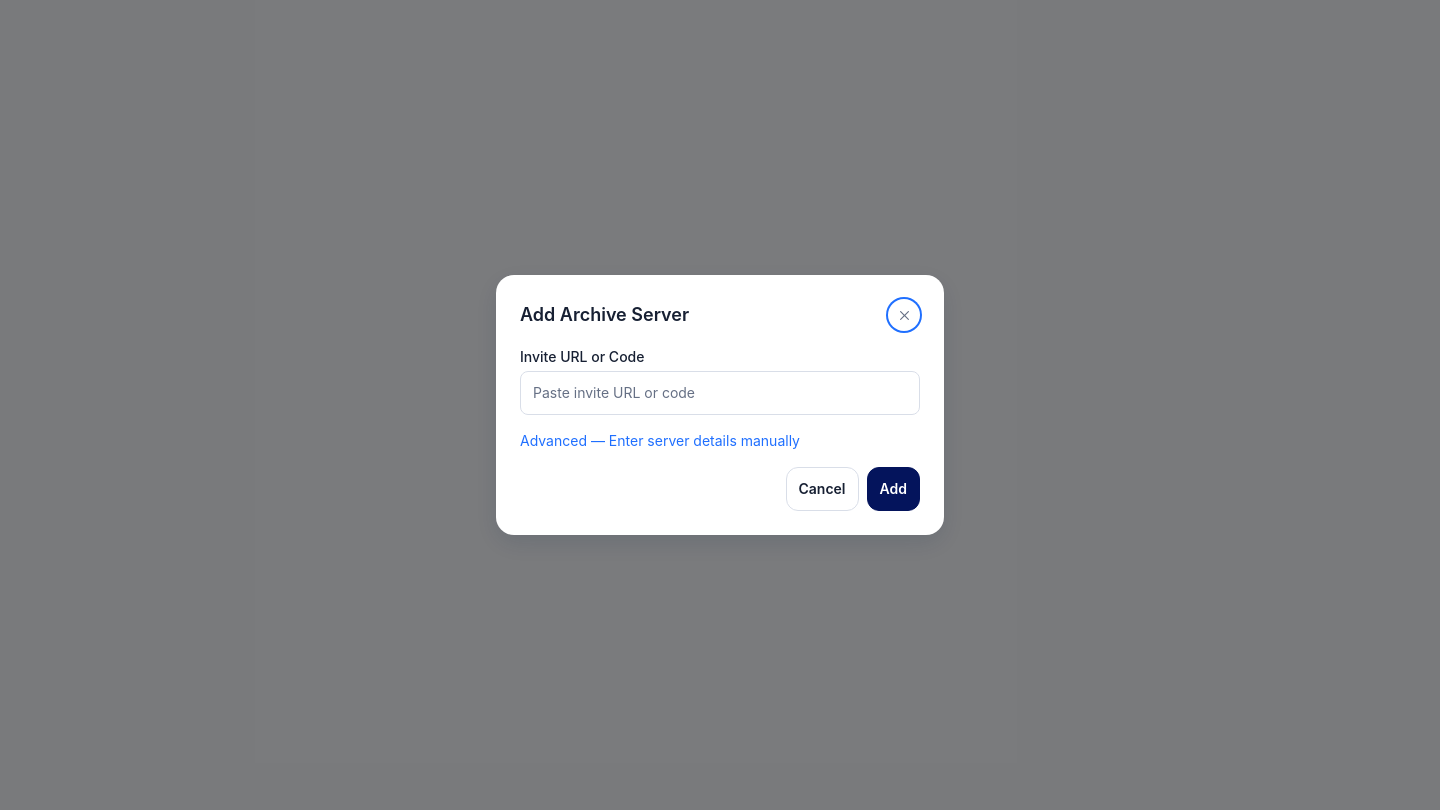
it: AddArchiveServerDialog › clicking "Advanced" toggle shows manual fields (Label, Server URL, Bearer Token)
The width and height of the screenshot is (1440, 810).
Expected: the field labelled "Invite URL or Code" is shown, [520,371,920,415]
Note: Click advanced toggle
Click the button with test id "advanced-toggle". click: (720, 441)
box: [520,431,920,451]
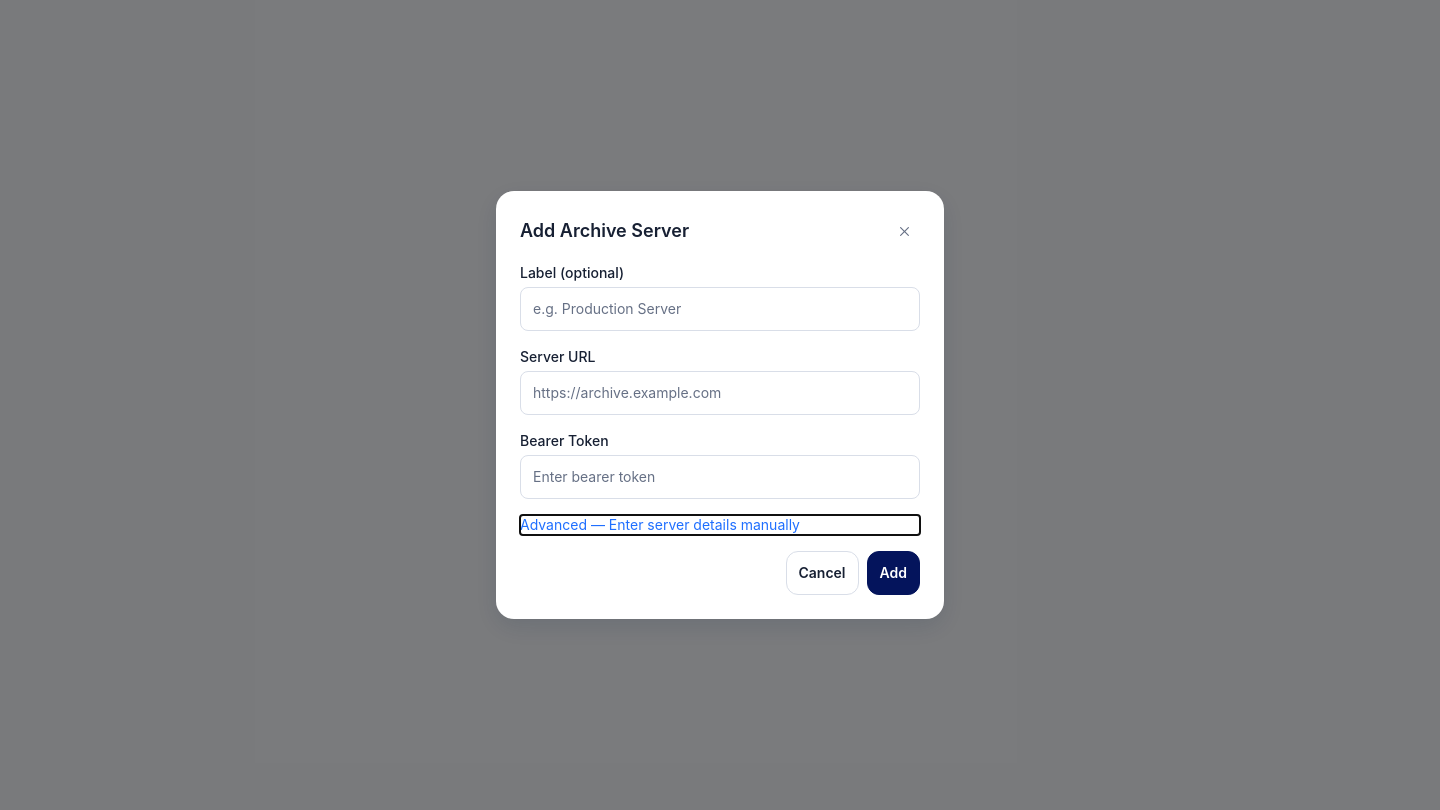
Now the field labelled "Label (optional)" is shown, box [520,287,920,331]
Now the field labelled "Server URL" is shown, box [520,371,920,415]
Now the password field labelled "Bearer Token" is shown, box [520,455,920,499]
